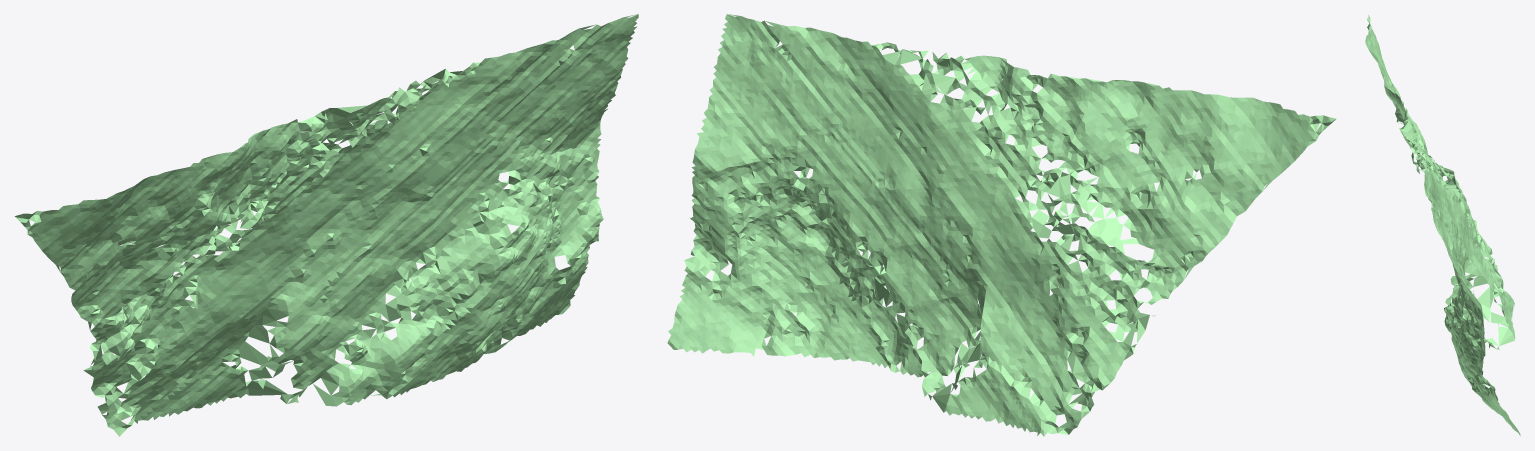
Rendered from tile_2.glb.
3 renders of one model, left to right at view 1: azimuth 30°, elevation 25°; view 2: azimuth 150°, elevation 25°; view 3: azimuth 270°, elevation 25°, orthographic. The views are drawn at different scales.
Size of the model in its own units: 56.84 by 28.15 by 17.95.
